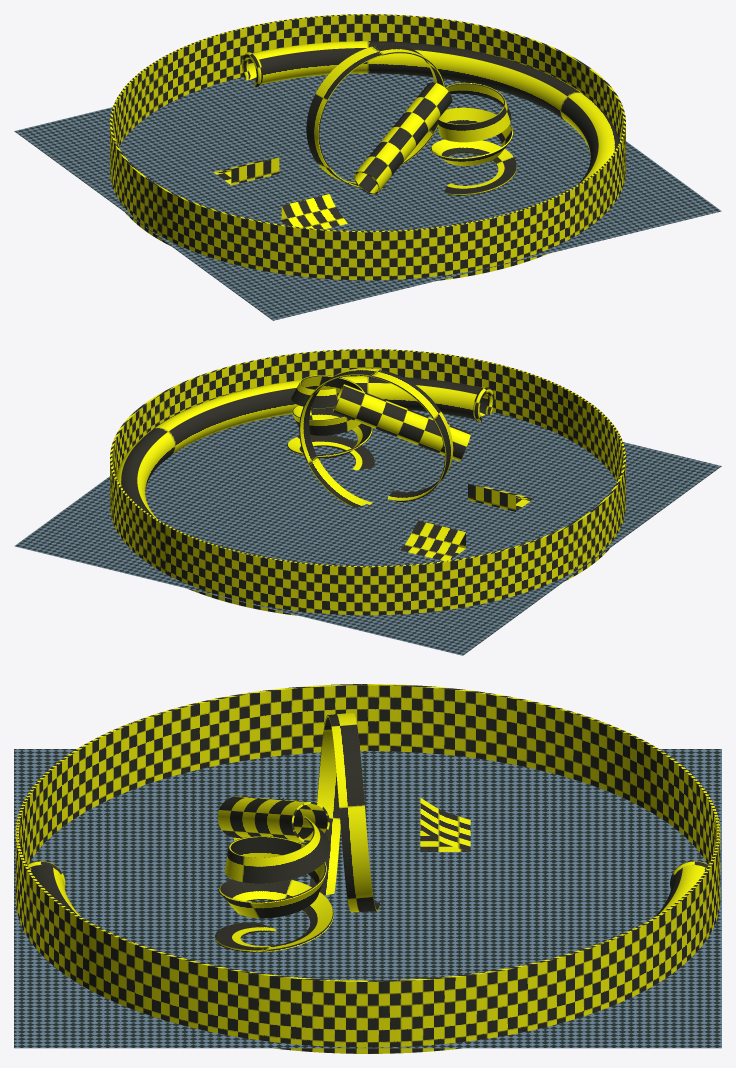
File: escenario6.fbx
The picture shows the model from 3 angles, top to bottom: view 1: azimuth 30°, elevation 25°; view 2: azimuth 150°, elevation 25°; view 3: azimuth 270°, elevation 25°; orthographic projection. The views are drawn at different scales.
Parts seen in each view (by area): view 1: Torus_4; view 2: Torus_4; view 3: Torus_4.
Boxes of the visible parts, left/top/right/bottom form: Torus_4: left=14, top=14, right=721, bottom=320; Torus_4: left=14, top=349, right=721, bottom=655; Torus_4: left=14, top=684, right=721, bottom=1053.
Size of the model in its own units: 3000 by 870 by 3000.
Materials: 3 (3 with a texture image).
